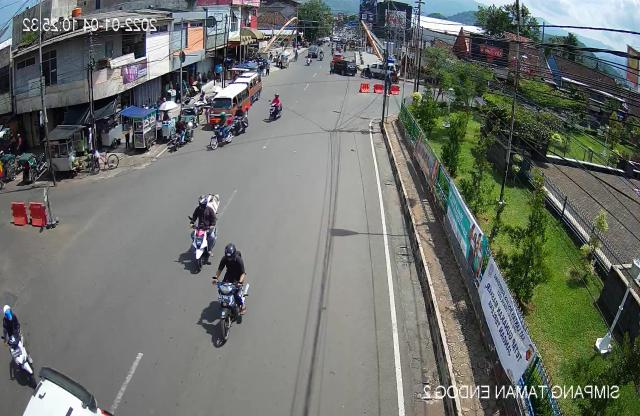Mobil: (208, 83, 252, 131)
Motor: (206, 240, 251, 345), (180, 184, 223, 278), (0, 305, 35, 389), (207, 111, 234, 154), (266, 90, 286, 125), (234, 105, 252, 132)
